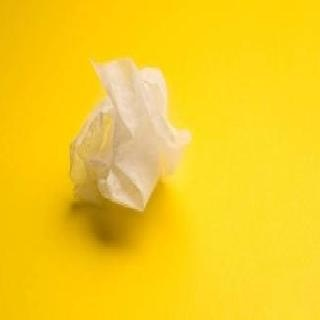8/可回收垃圾/纸: (68, 59, 188, 212)
